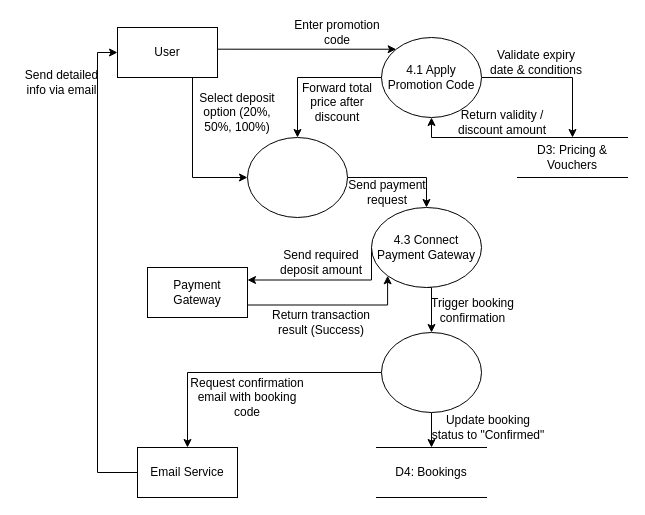
Image size: 645x515. Some labels were removed from this diagram. The shapes that lost their labels are listed below. From the top down, each one's centre as x and y in pixels, then its label:
At [297,177]: "4.2 Select Deposit Level".
At [431,372]: "4.4 Confirm Booking & Send Email".
